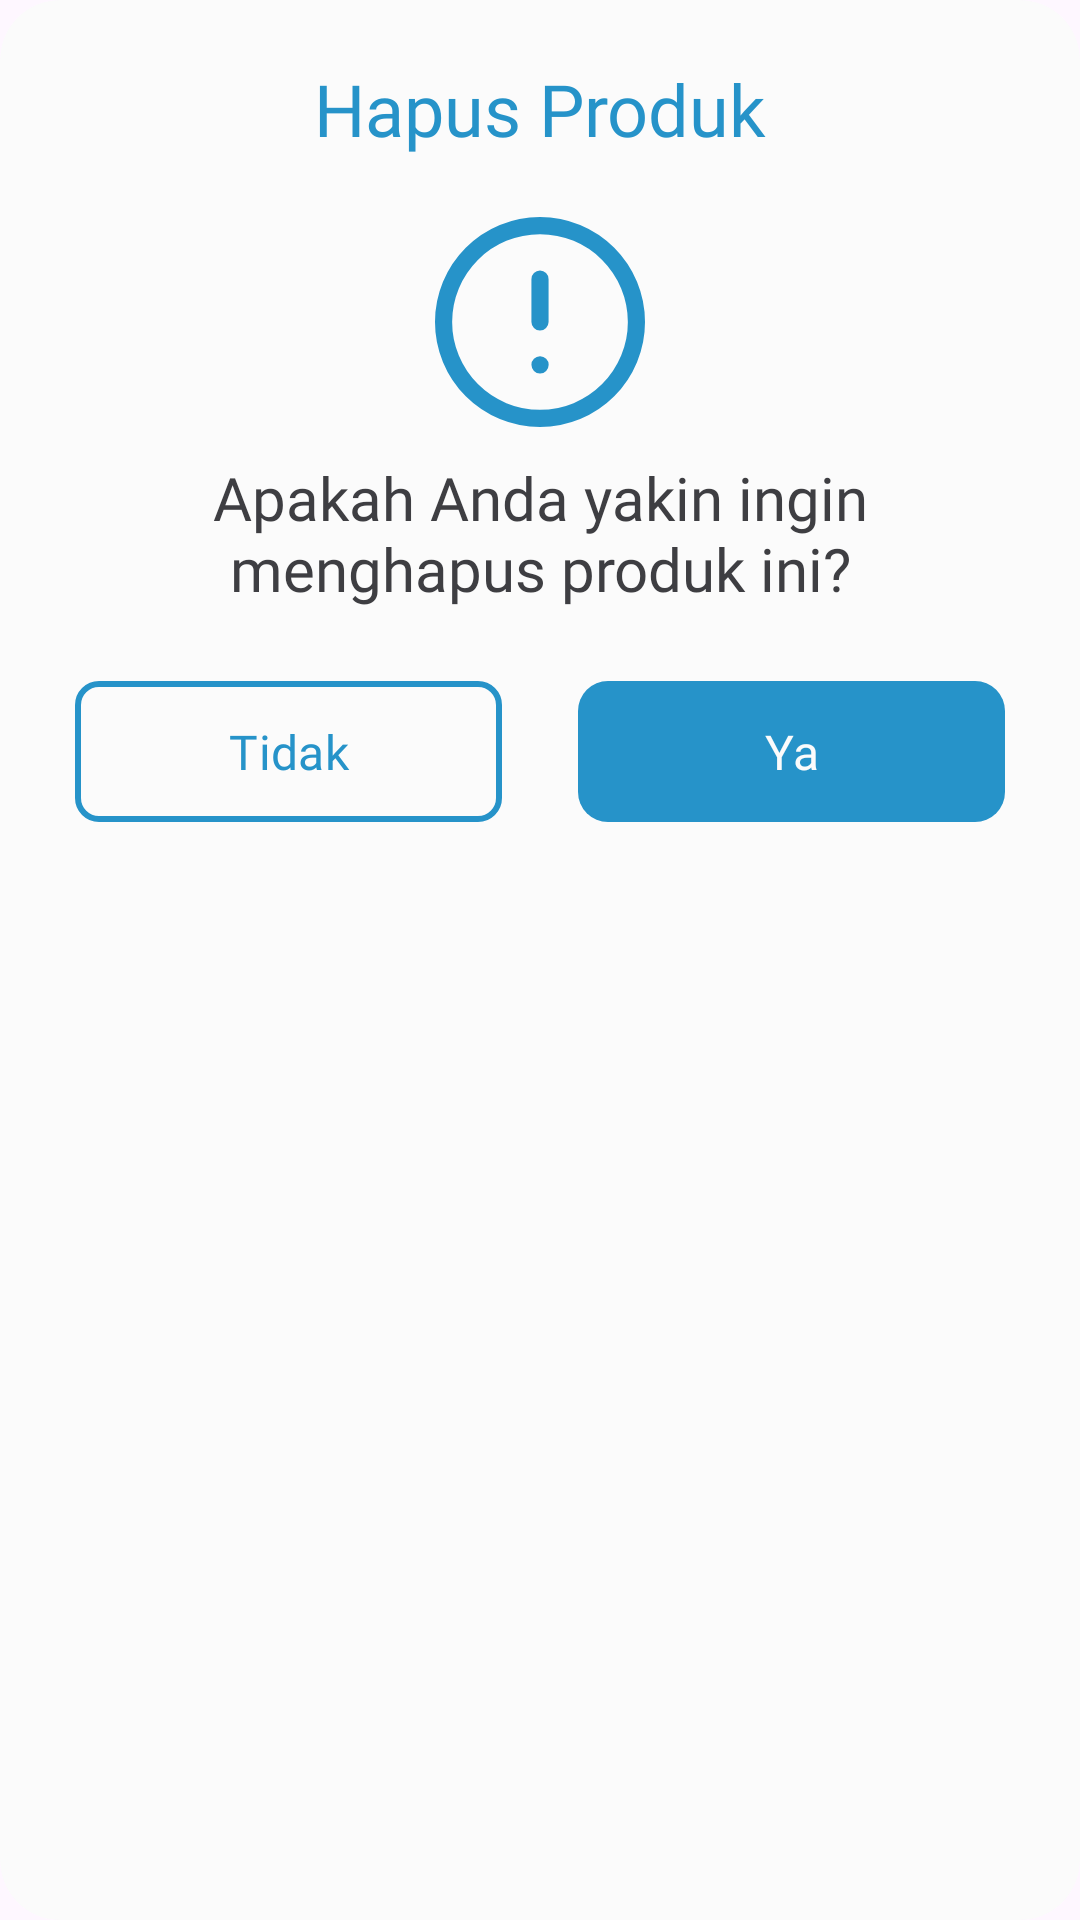

Where icons sit on this 1080w x 1920h app screen, as box=[x1, y1, x2, y2]:
Image Warning Remove Product Dialog: box=[435, 217, 645, 427]
